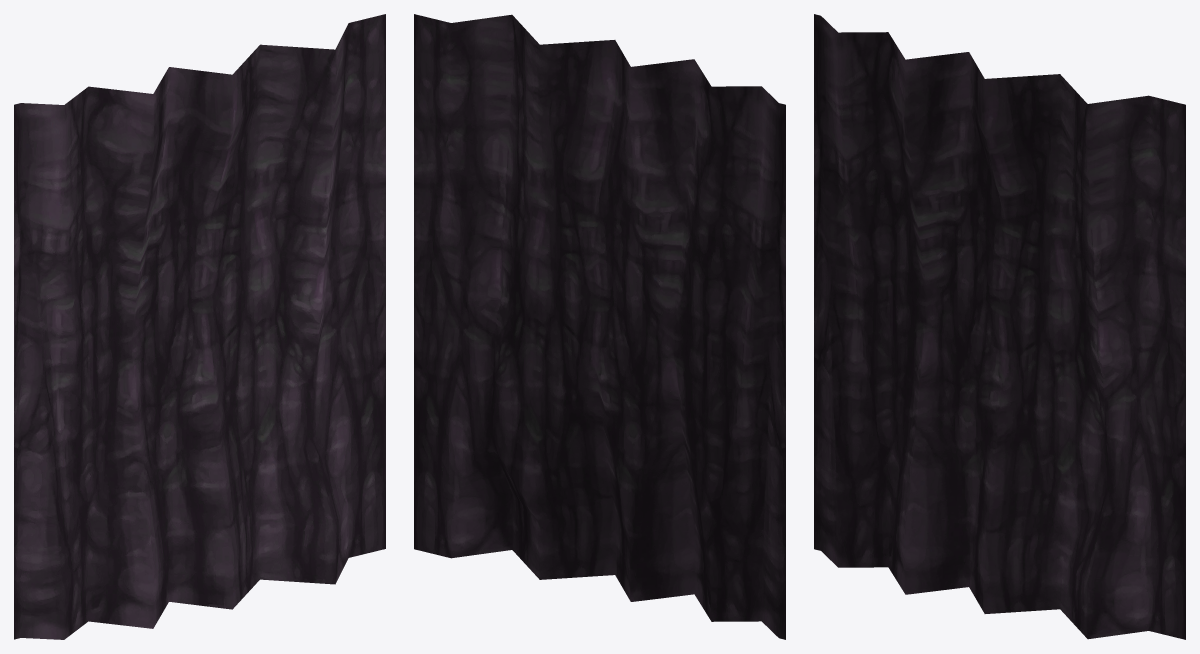
The model's file is cave_wall_straight_01.fbx.
The picture shows the model from 3 angles, left to right: view 1: azimuth 30°, elevation 25°; view 2: azimuth 150°, elevation 25°; view 3: azimuth 330°, elevation 25°; orthographic projection.
Parts seen in each view (by area): view 1: cave_tileset/wall01_mat; view 2: cave_tileset/wall01_mat; view 3: cave_tileset/wall01_mat.
Part boxes in pixels (x1=…): cave_tileset/wall01_mat: x1=14, y1=14, x2=385, y2=639; cave_tileset/wall01_mat: x1=414, y1=14, x2=785, y2=639; cave_tileset/wall01_mat: x1=814, y1=14, x2=1185, y2=639.
Bounding box in the file's own units: 4 × 5.5 × 0.4443.
